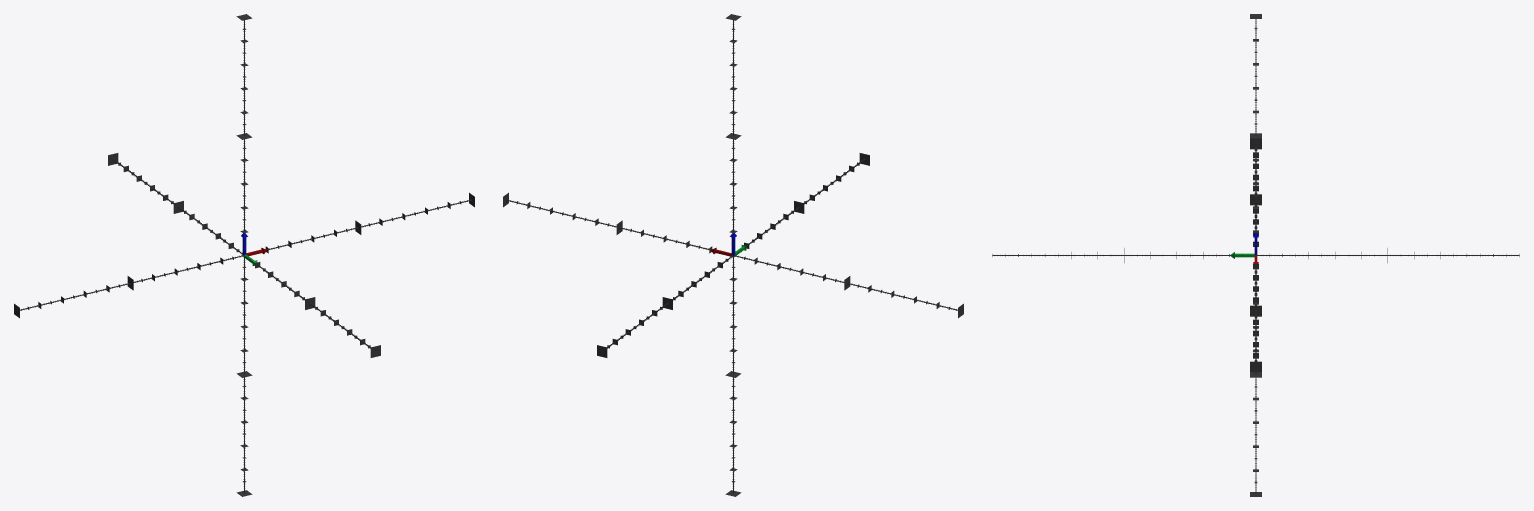
Rendered from XYZAxes.fbx.
The picture shows the model from 3 angles, left to right: view 1: azimuth 30°, elevation 25°; view 2: azimuth 150°, elevation 25°; view 3: azimuth 270°, elevation 25°; orthographic projection.
Visible parts, largest first — view 1: Cube; view 2: Cube; view 3: Cube.
Part boxes in pixels (<box>): Cube: <box>14,14,474,496</box>; Cube: <box>503,14,963,496</box>; Cube: <box>992,14,1519,496</box>.
Size of the model in its own units: 2000 by 2000 by 2000.
